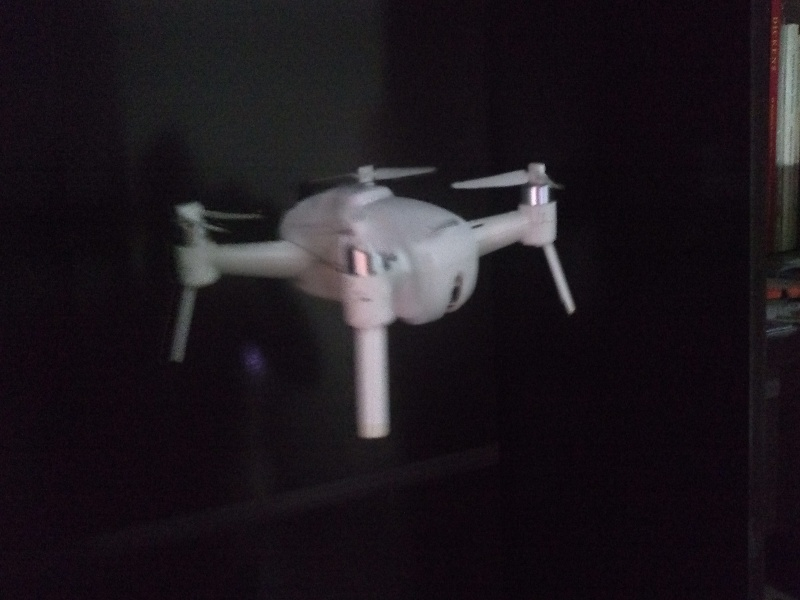drone: (157, 152, 590, 439)
